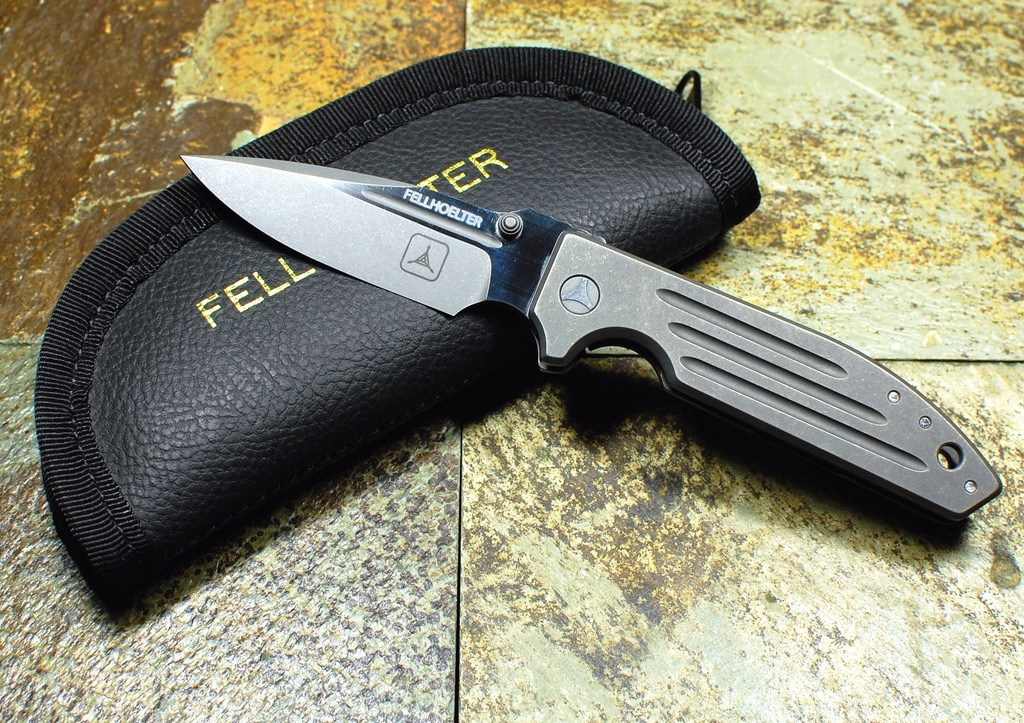knife: (179, 154, 1002, 521)
